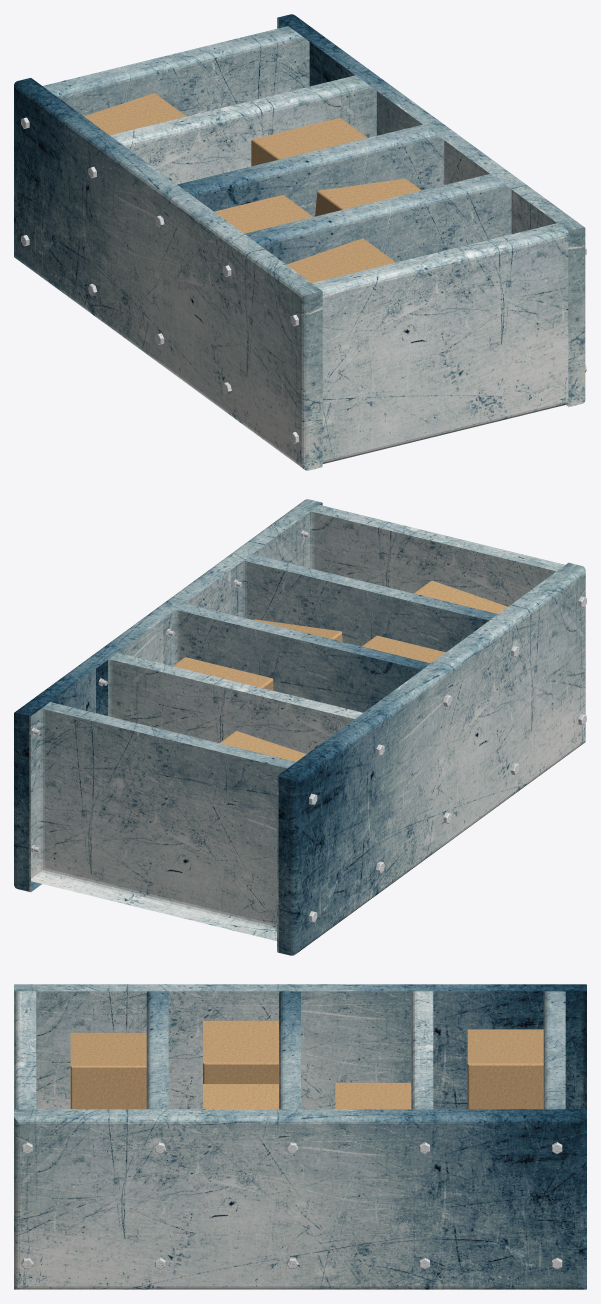
The model's file is MetalCabinet.fbx.
3 renders of one model, top to bottom at view 1: azimuth 30°, elevation 25°; view 2: azimuth 150°, elevation 25°; view 3: azimuth 270°, elevation 25°, orthographic.
Visible parts, largest first — view 1: ID3, ID716-3, ID17, ID716-2, ID716-0, ID26, ID716-1, ID590-0, ID692-0, ID556-0, ID624-0, ID658-0; view 2: ID3, ID17, ID716-0, ID716-1, ID716-3, ID716-2, ID26, ID590-0, ID692-0, ID556-0, ID624-0; view 3: ID26, ID3, ID556-0, ID692-0, ID624-0, ID716-0, ID716-3, ID716-2, ID17, ID716-1, ID590-0, ID658-0.
Boxes of the visible parts, x1,y1,x2,y2 form: ID3: [14, 78, 322, 470]; ID716-3: [312, 223, 568, 463]; ID17: [43, 26, 309, 116]; ID716-2: [244, 174, 511, 264]; ID716-0: [110, 75, 376, 184]; ID26: [277, 14, 585, 407]; ID716-1: [177, 124, 444, 216]; ID590-0: [251, 118, 367, 166]; ID692-0: [287, 238, 395, 282]; ID556-0: [84, 93, 186, 135]; ID624-0: [214, 195, 312, 233]; ID658-0: [315, 178, 421, 216]; ID3: [277, 562, 585, 955]; ID17: [31, 702, 295, 940]; ID716-0: [96, 652, 362, 753]; ID716-1: [163, 603, 430, 712]; ID716-3: [298, 505, 564, 606]; ID716-2: [230, 554, 497, 652]; ID26: [14, 499, 322, 892]; ID590-0: [173, 657, 273, 690]; ID692-0: [414, 580, 507, 613]; ID556-0: [219, 731, 305, 761]; ID624-0: [362, 635, 444, 663]; ID26: [14, 1109, 586, 1289]; ID3: [14, 984, 586, 1109]; ID556-0: [467, 1029, 543, 1109]; ID692-0: [70, 1032, 146, 1109]; ID624-0: [203, 1020, 278, 1083]; ID716-0: [411, 991, 433, 1109]; ID716-3: [14, 991, 36, 1109]; ID716-2: [146, 991, 168, 1109]; ID17: [543, 991, 565, 1109]; ID716-1: [279, 991, 300, 1109]; ID590-0: [335, 1082, 411, 1109]; ID658-0: [203, 1084, 278, 1109].
Bounding box in the file's own units: 41.56 × 24 × 72.
